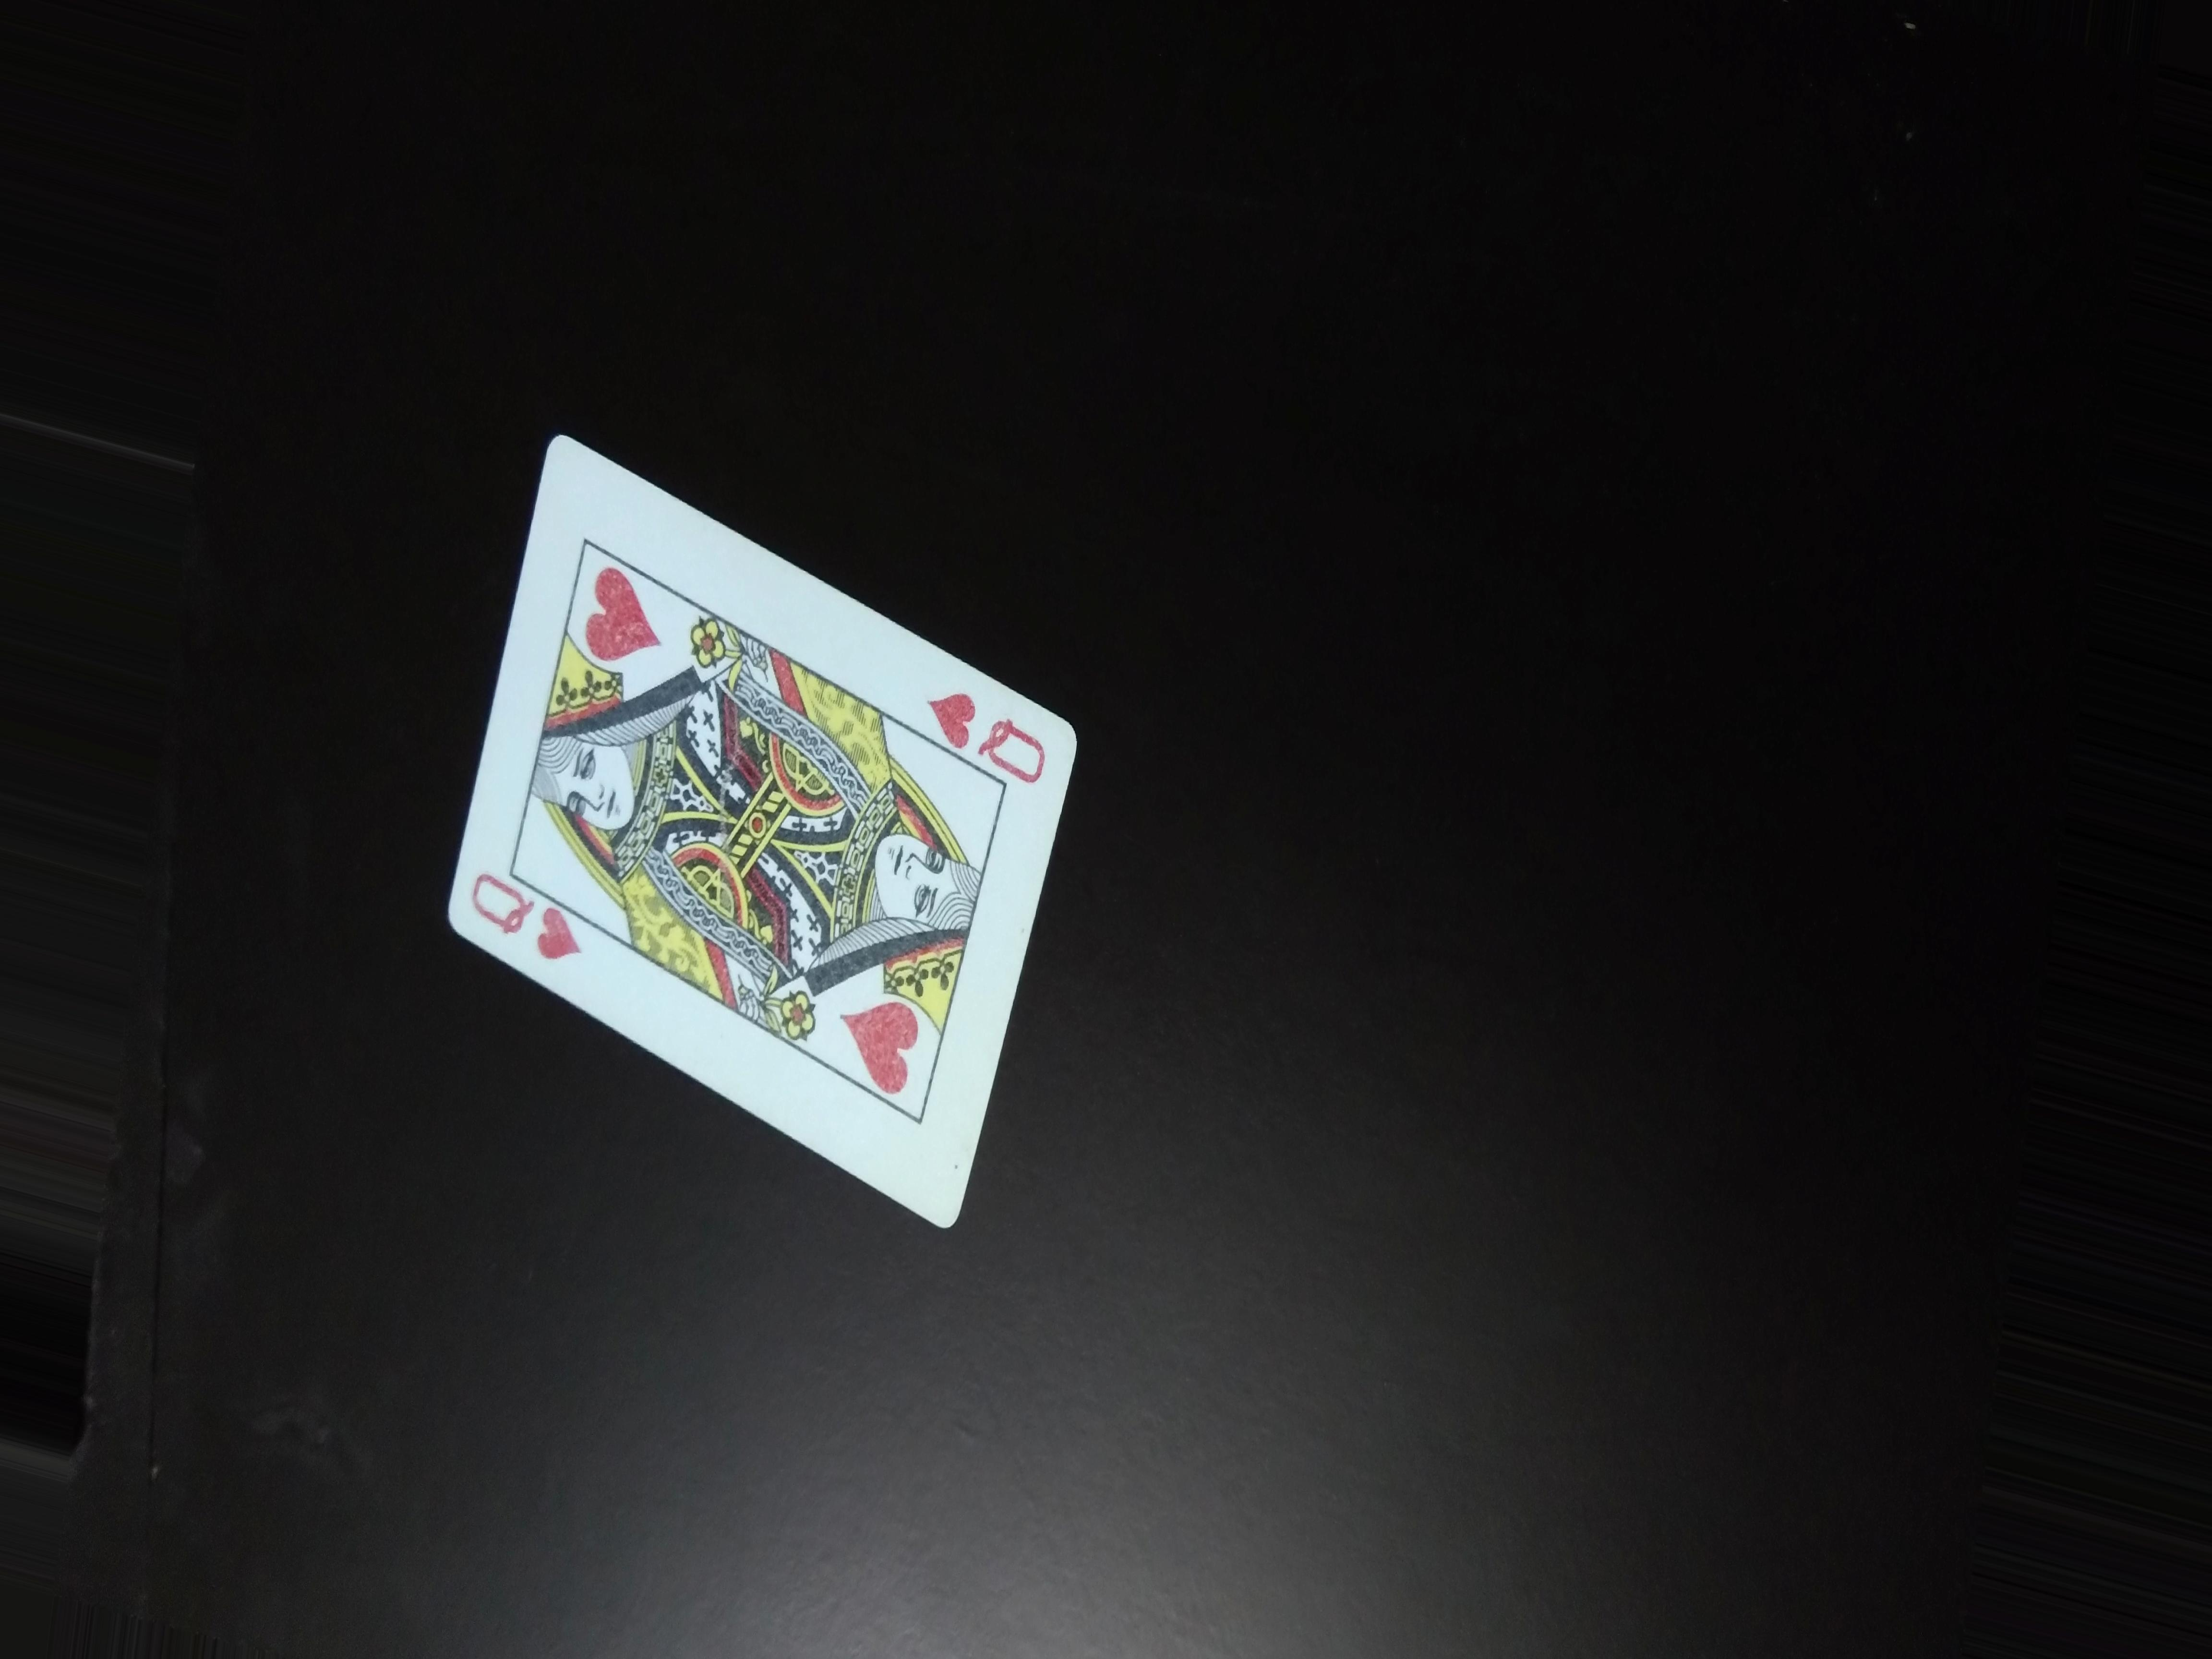QH: (448, 868, 592, 967)
